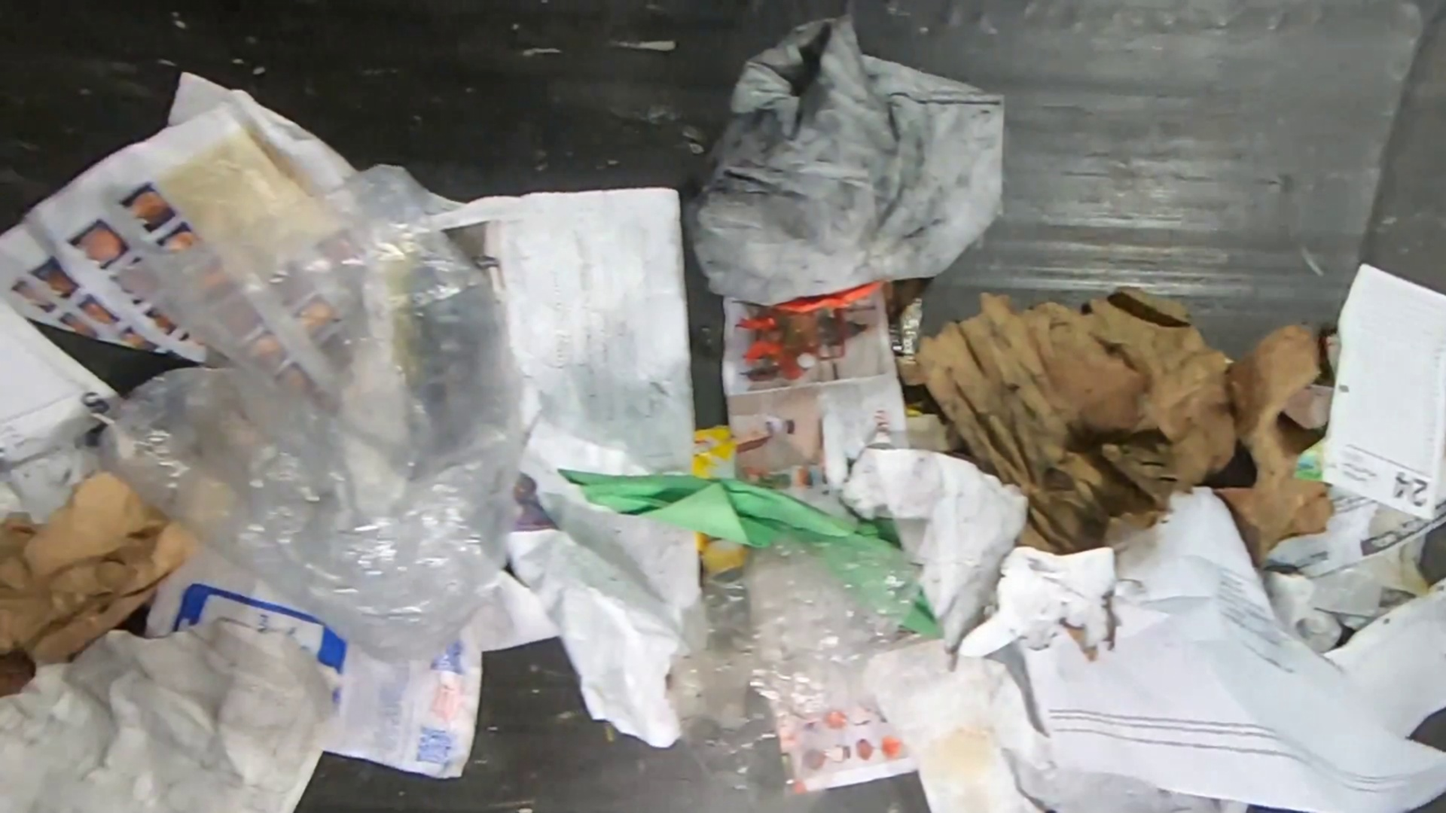cardboard: (1, 471, 195, 699)
plastic: (94, 164, 526, 660), (667, 526, 932, 808)
